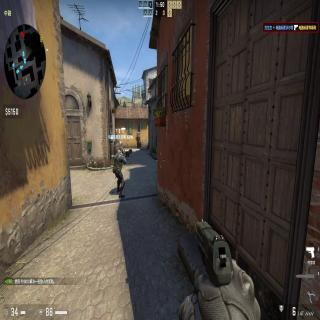CT-Body: (113, 146, 126, 200)
T-Body: (136, 135, 140, 149)
